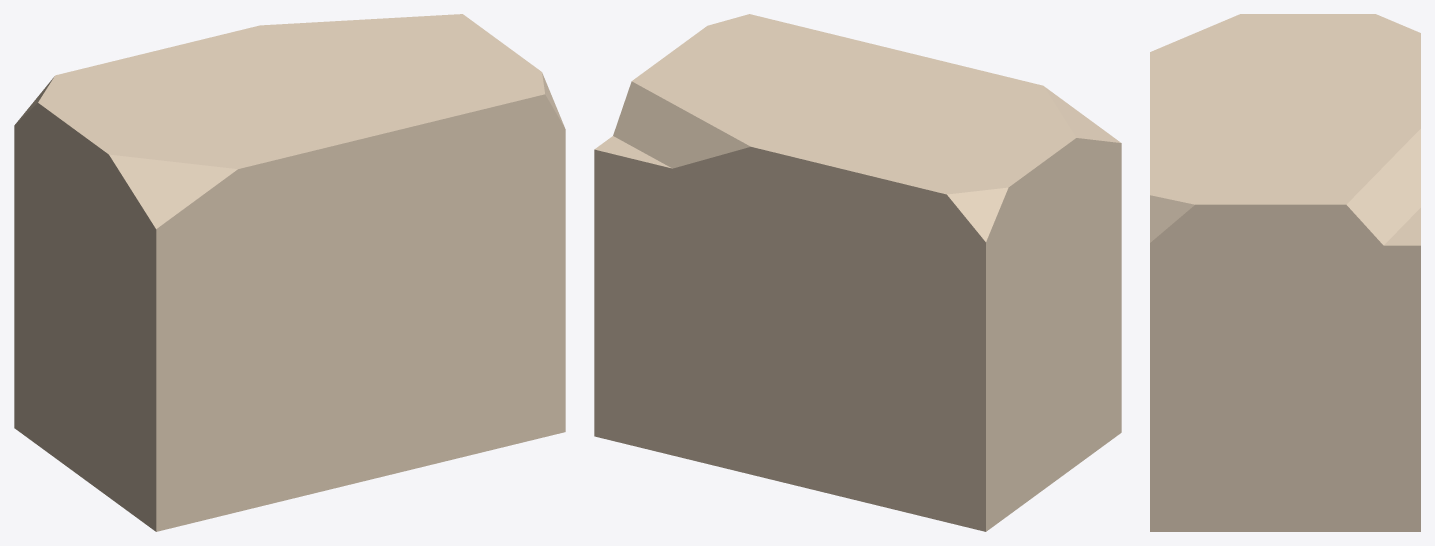
The picture shows the model from 3 angles, left to right: view 1: azimuth 30°, elevation 25°; view 2: azimuth 150°, elevation 25°; view 3: azimuth 270°, elevation 25°; orthographic projection. The views are drawn at different scales.
Visible parts, largest first — view 1: object4.005; view 2: object4.005; view 3: object4.005.
Boxes of the visible parts, <box> form: object4.005: <box>14,14,565,531</box>; object4.005: <box>594,14,1121,531</box>; object4.005: <box>1150,14,1420,531</box>.
Size of the model in its own units: 0.25 by 0.2 by 0.15.
